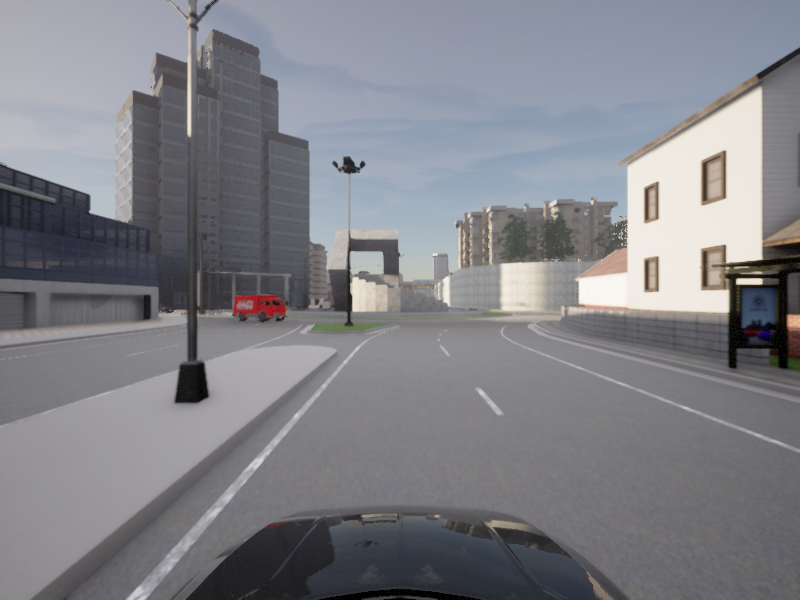vehicle: (0, 0, 799, 494), (231, 294, 291, 323)
